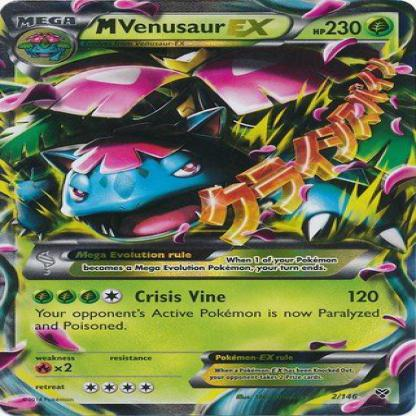Venusaur: (1, 55, 416, 247)
